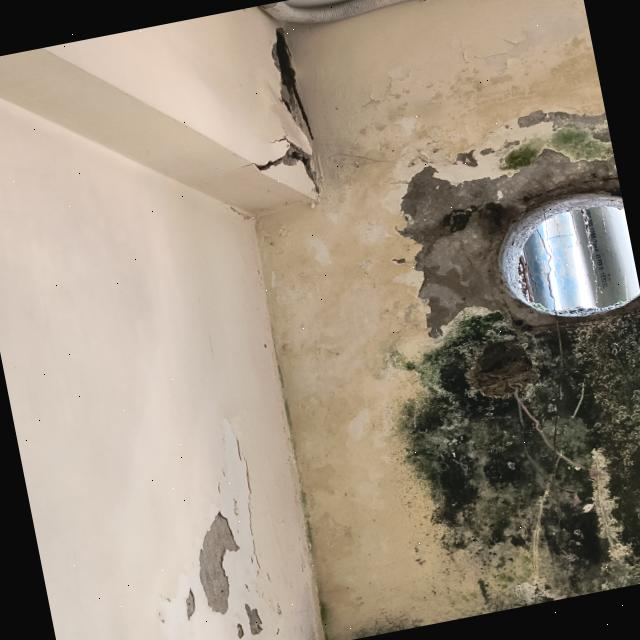Moss growth due to damping: (392, 310, 640, 612), (503, 127, 613, 169)
Scaling: (400, 148, 622, 338), (199, 512, 239, 614), (245, 603, 263, 635)
Spalling: (255, 28, 320, 197)
